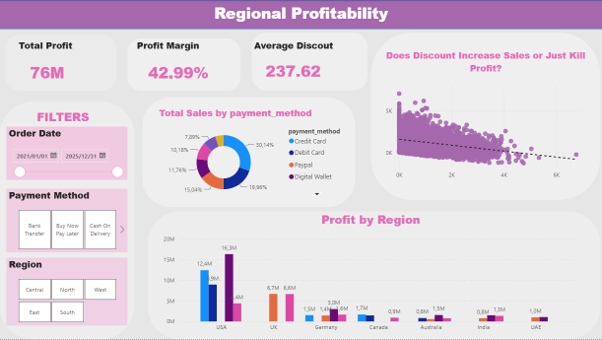

The dashboard page shown, as its layout file describes it:
{"tool":"powerbi","page":{"name":"Profit & Regions","canvas":[1280,720],"ordinal":3},"visuals":[{"type":"shape","box":[0,0,1280,61.7],"z":0},{"type":"shape","box":[303.3,207.1,451.8,232.2],"z":1000},{"type":"shape","box":[314.8,448.6,961,271.9],"z":2000},{"type":"shape","box":[271.9,81.6,239.5,110.8],"z":3000},{"type":"shape","box":[11.5,74.2,237.4,118.2],"z":4000},{"type":"shape","box":[535.4,69,245.8,123.4],"z":5000},{"type":"shape","box":[0,215.4,286.5,505.1],"z":6000},{"type":"clusteredColumnChart","title":"Profit by Region","fields":{"Category":["Table1.customer_country"],"Series":["Table1.region"],"Y":["All Measures.Total Profit"]},"box":[343,448.6,889.9,263.5],"z":7000},{"type":"donutChart","fields":{"Category":["Table1.payment_method"],"Y":["All Measures.Total Sales"]},"box":[333.6,225.9,403.7,198.7],"z":8000},{"type":"shape","box":[788.5,69,487.3,355.6],"z":9000},{"type":"scatterChart","title":"Does Discount Increase Sales or Just Kill Profit?","fields":{"Category":["Table1.order_id"],"X":["All Measures.Avg Discount"],"Y":["All Measures.Total Profit"]},"box":[814.6,103.5,435,285.5],"z":10000},{"type":"slicer","title":"Order Date","fields":{"Values":["Table1.order_date"]},"box":[14.6,268.8,257.3,112.9],"z":11000},{"type":"slicer","title":"Payment Method","fields":{"Values":["Table1.payment_method"]},"box":[14.6,400.5,257.3,134.9],"z":12000},{"type":"slicer","title":"Region","fields":{"Values":["Table1.region"]},"box":[14.6,546.9,257.3,144.3],"z":13000},{"type":"cardVisual","title":"Total  Profit","fields":{"Data":["All Measures.Total Profit"]},"box":[35.6,82.6,201.8,102.5],"z":14000},{"type":"cardVisual","title":"Profit Margin","fields":{"Data":["All Measures.Profit Margin %"]},"box":[286.5,82.6,215.4,102.5],"z":15000},{"type":"cardVisual","title":"Average Discout","fields":{"Data":["All Measures.Avg Discount"]},"box":[535.4,82.6,230.1,97.3],"z":16000},{"type":"textbox","box":[74.2,225.9,137,47.1],"z":17000},{"type":"textbox","box":[0,0,1280,61.7],"z":17001}]}

Visuals, with their boxes in screenshot pixels (x1, y1, x2, y2), scaled from the page's 1280x720 canvas onto the 602x340 screenshot:
shape: [x1=0, y1=0, x2=601, y2=29]
shape: [x1=143, y1=98, x2=355, y2=207]
shape: [x1=148, y1=212, x2=600, y2=339]
shape: [x1=128, y1=39, x2=241, y2=91]
shape: [x1=5, y1=35, x2=117, y2=91]
shape: [x1=252, y1=33, x2=367, y2=91]
shape: [x1=0, y1=102, x2=135, y2=339]
"Profit by Region" clusteredColumnChart: [x1=161, y1=212, x2=580, y2=336]
donutChart - Table1.payment_method x All Measures.Total Sales: [x1=157, y1=107, x2=347, y2=201]
shape: [x1=371, y1=33, x2=600, y2=201]
"Does Discount Increase Sales or Just Kill Profit?" scatterChart: [x1=383, y1=49, x2=588, y2=184]
"Order Date" slicer: [x1=7, y1=127, x2=128, y2=180]
"Payment Method" slicer: [x1=7, y1=189, x2=128, y2=253]
"Region" slicer: [x1=7, y1=258, x2=128, y2=326]
"Total  Profit" cardVisual: [x1=17, y1=39, x2=112, y2=87]
"Profit Margin" cardVisual: [x1=135, y1=39, x2=236, y2=87]
"Average Discout" cardVisual: [x1=252, y1=39, x2=360, y2=85]
textbox: [x1=35, y1=107, x2=99, y2=129]
textbox: [x1=0, y1=0, x2=601, y2=29]
